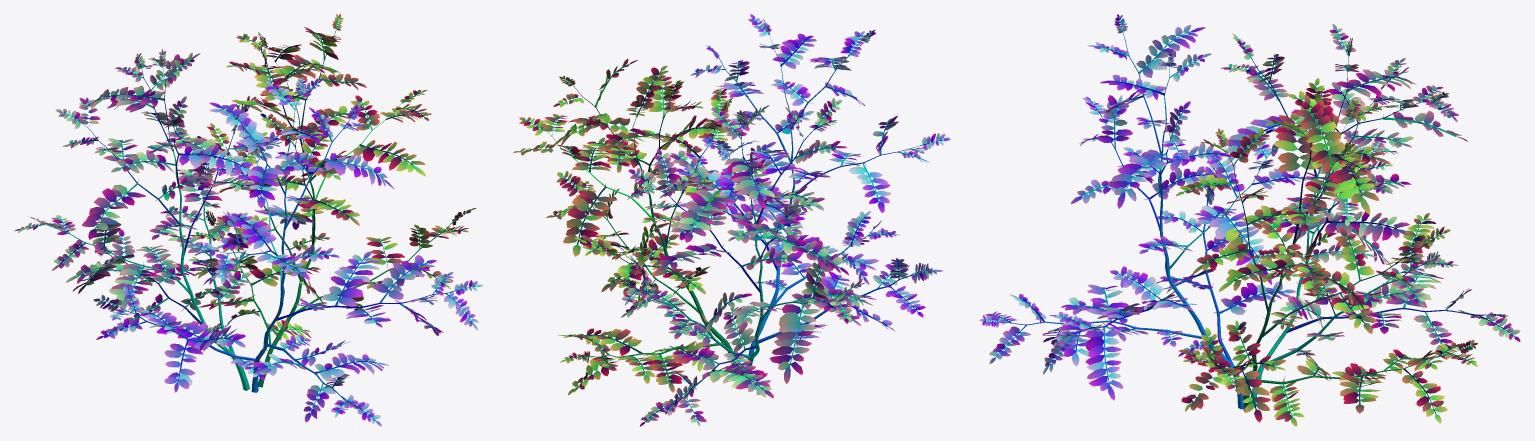
The model's file is Black_Locust_wdvhberja_Mid_wdvhberja_VarA_LOD0.fbx.
3 views of the same model, side by side, from view 1: azimuth 30°, elevation 25°; view 2: azimuth 150°, elevation 25°; view 3: azimuth 270°, elevation 25° (orthographic). The views are drawn at different scales.
Visible parts, largest first — view 1: _f8bq_VarA_LOD1; view 2: _f8bq_VarA_LOD1; view 3: _f8bq_VarA_LOD1.
Part boxes in pixels (left/top/right/bottom): _f8bq_VarA_LOD1: left=14, top=14, right=483, bottom=426; _f8bq_VarA_LOD1: left=512, top=14, right=950, bottom=426; _f8bq_VarA_LOD1: left=979, top=14, right=1520, bottom=426.
Size of the model in its own units: 136 by 115 by 153.
